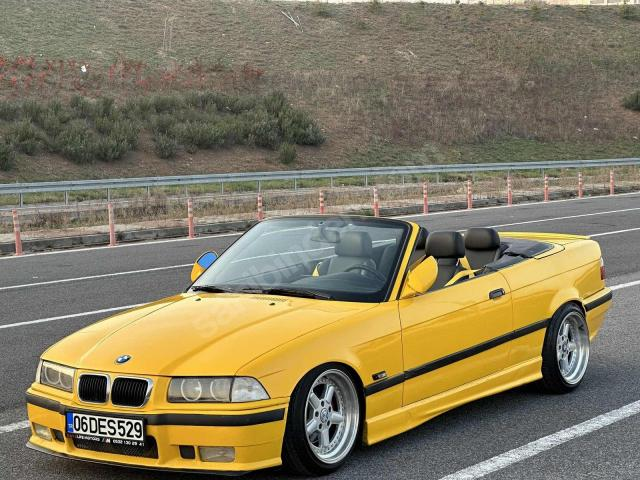plaka: (66, 413, 144, 441)
